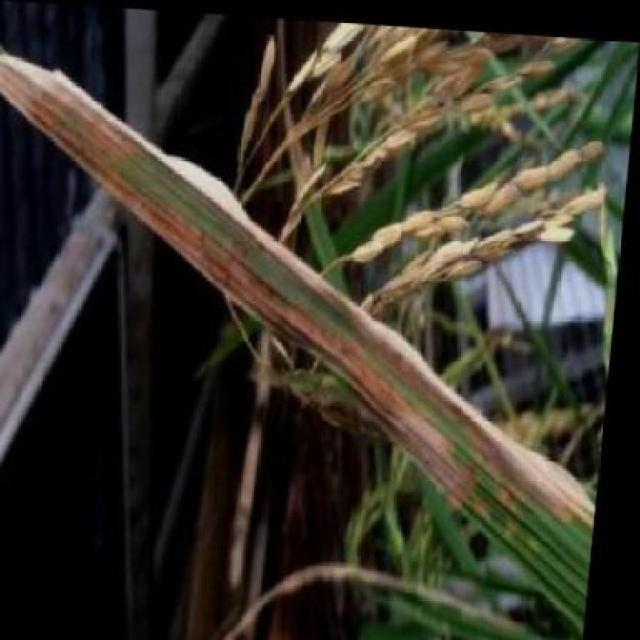Brown_Spot: (0, 46, 431, 449), (360, 338, 612, 547)
